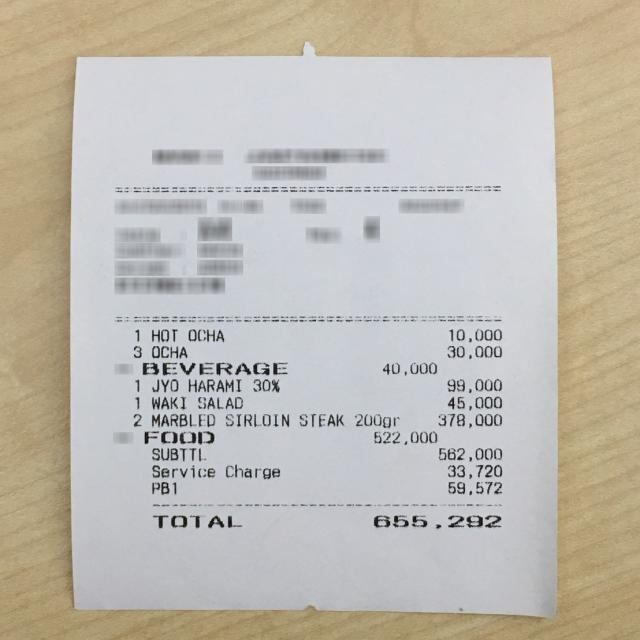kertas: (70, 42, 557, 618)
